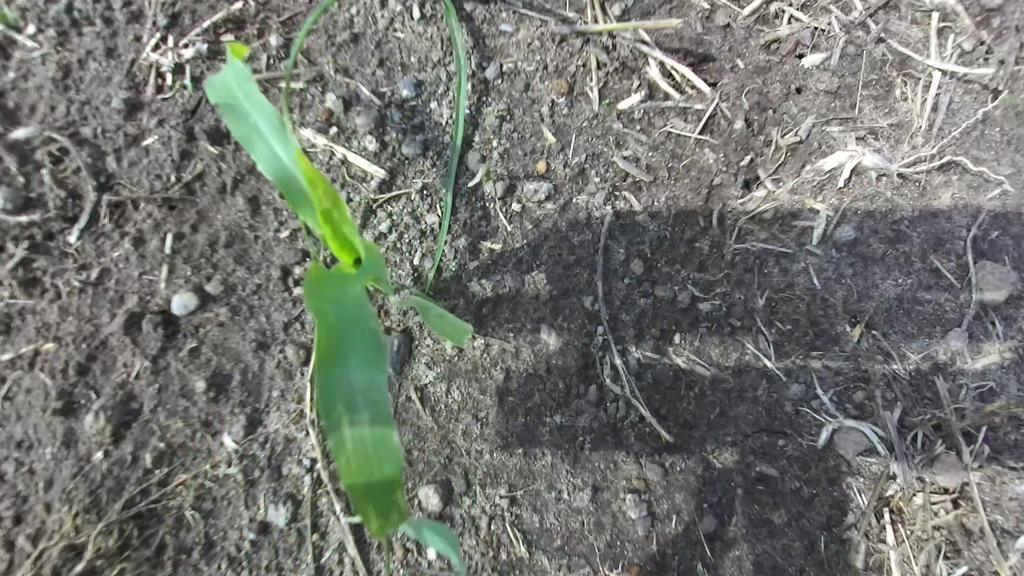BroWeed: (204, 451, 249, 479), (88, 409, 115, 441), (464, 160, 489, 192), (158, 78, 184, 102), (481, 178, 497, 209), (214, 452, 230, 479), (181, 76, 198, 96), (389, 127, 403, 151), (479, 167, 497, 184), (411, 3, 422, 20), (432, 1, 443, 18), (600, 96, 611, 105)
